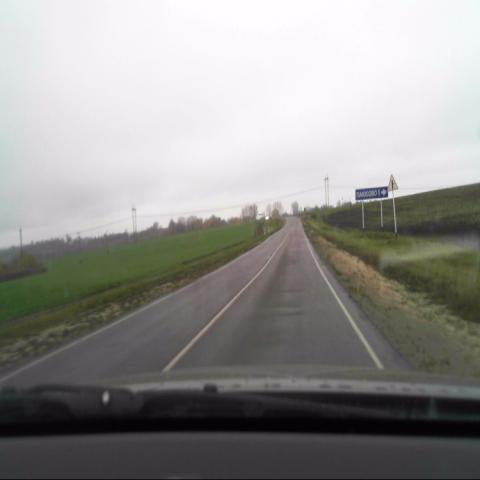2_3_2: (387, 173, 398, 192)
